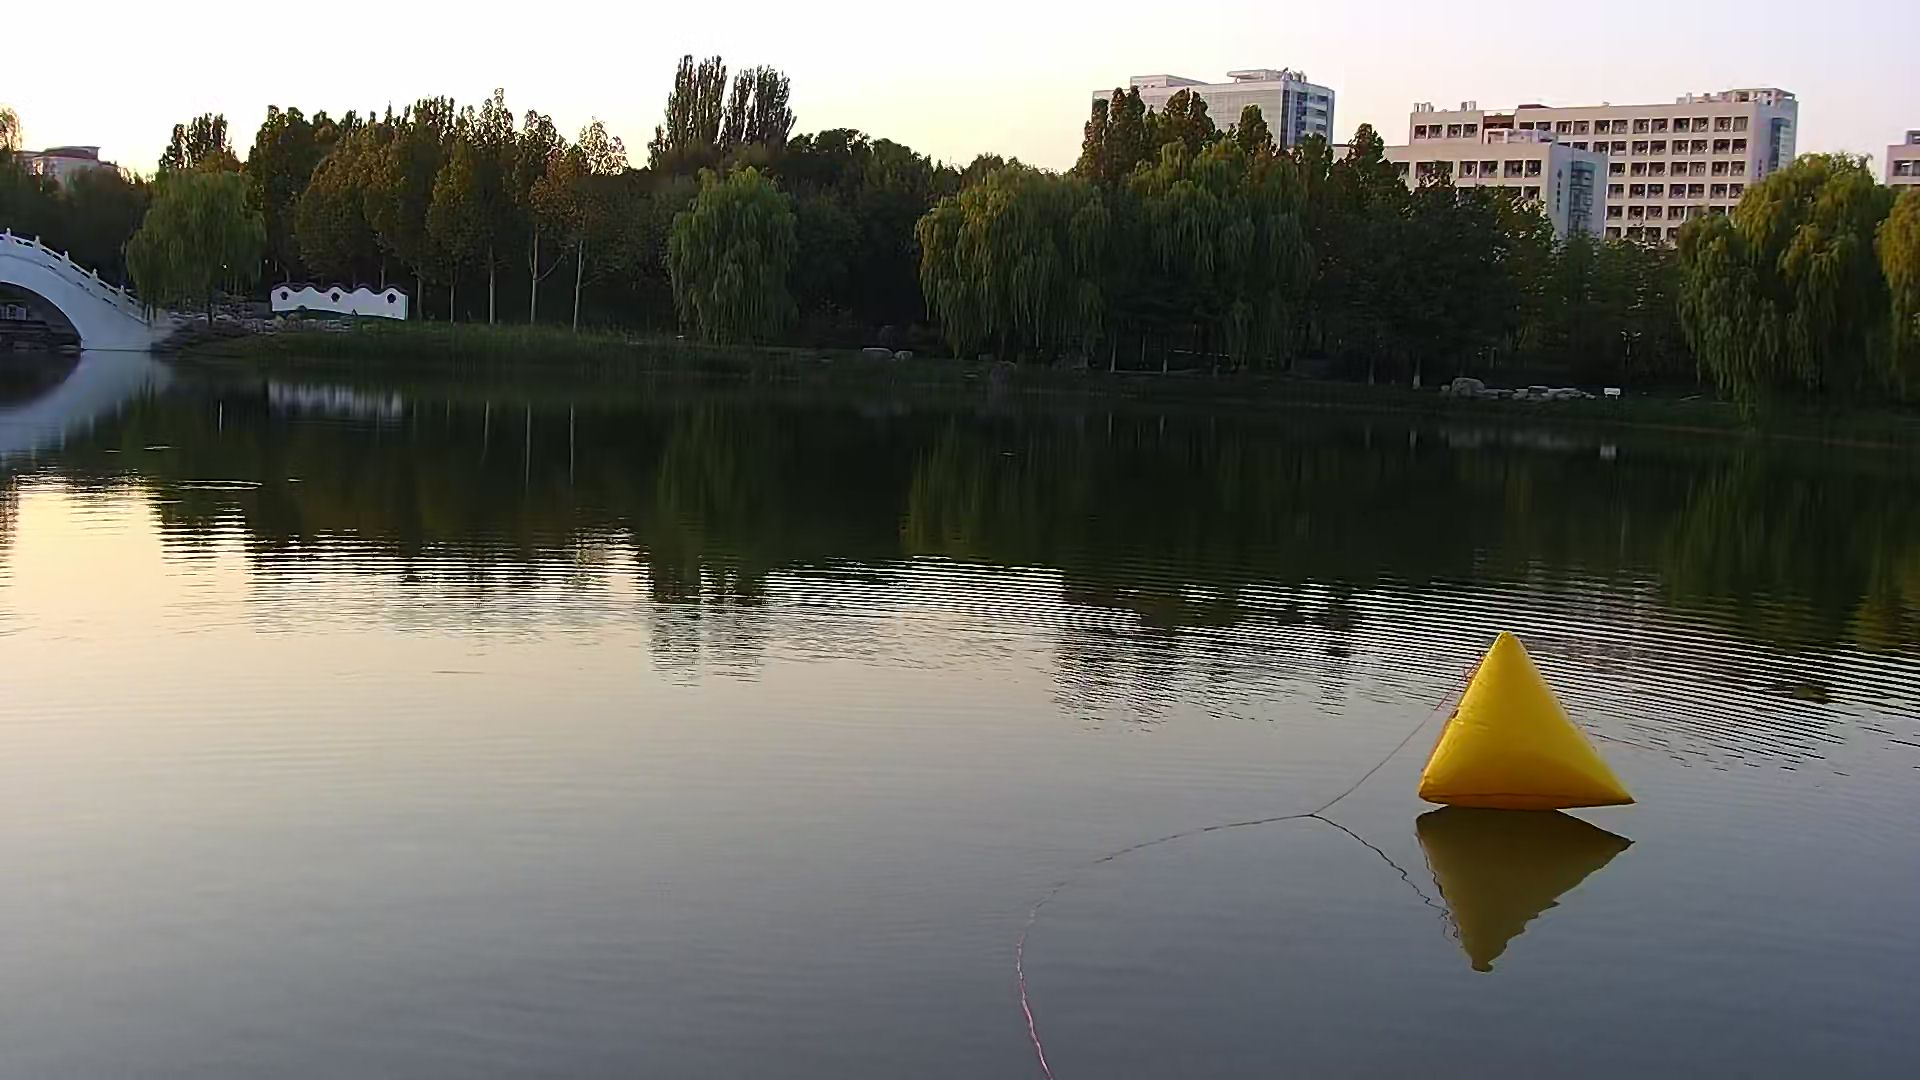rubbish: (1408, 621, 1644, 822)
